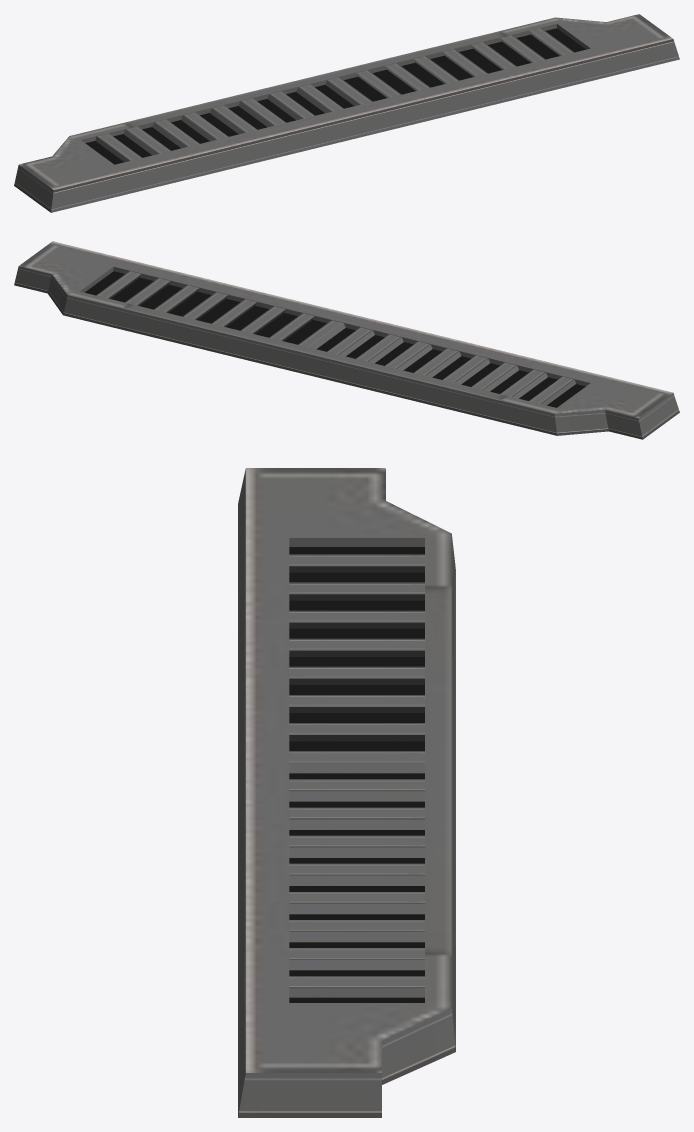
File: vent.glb
The picture shows the model from 3 angles, top to bottom: view 1: azimuth 30°, elevation 25°; view 2: azimuth 150°, elevation 25°; view 3: azimuth 270°, elevation 25°; orthographic projection. The views are drawn at different scales.
Parts seen in each view (by area): view 1: Prop_Vent_Wide; view 2: Prop_Vent_Wide; view 3: Prop_Vent_Wide.
Part boxes in pixels (left/top/right/bottom): Prop_Vent_Wide: left=14, top=14, right=679, bottom=212; Prop_Vent_Wide: left=14, top=241, right=679, bottom=439; Prop_Vent_Wide: left=238, top=468, right=455, bottom=1117.
Size of the model in its own units: 1.94 by 0.0595 by 0.291.
3 materials, 2 textured.
